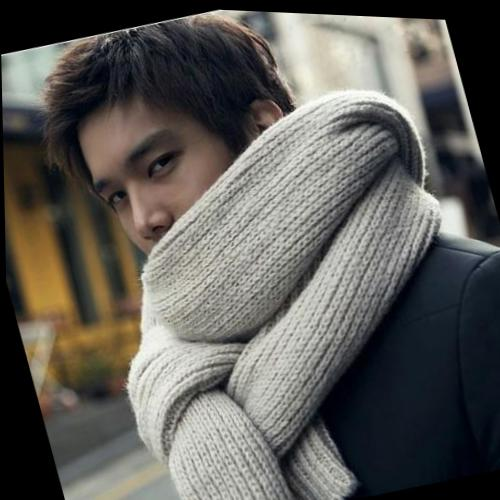WRONG: (78, 92, 275, 303)
